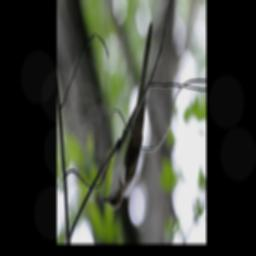Cuckoo: (102, 18, 155, 213)
